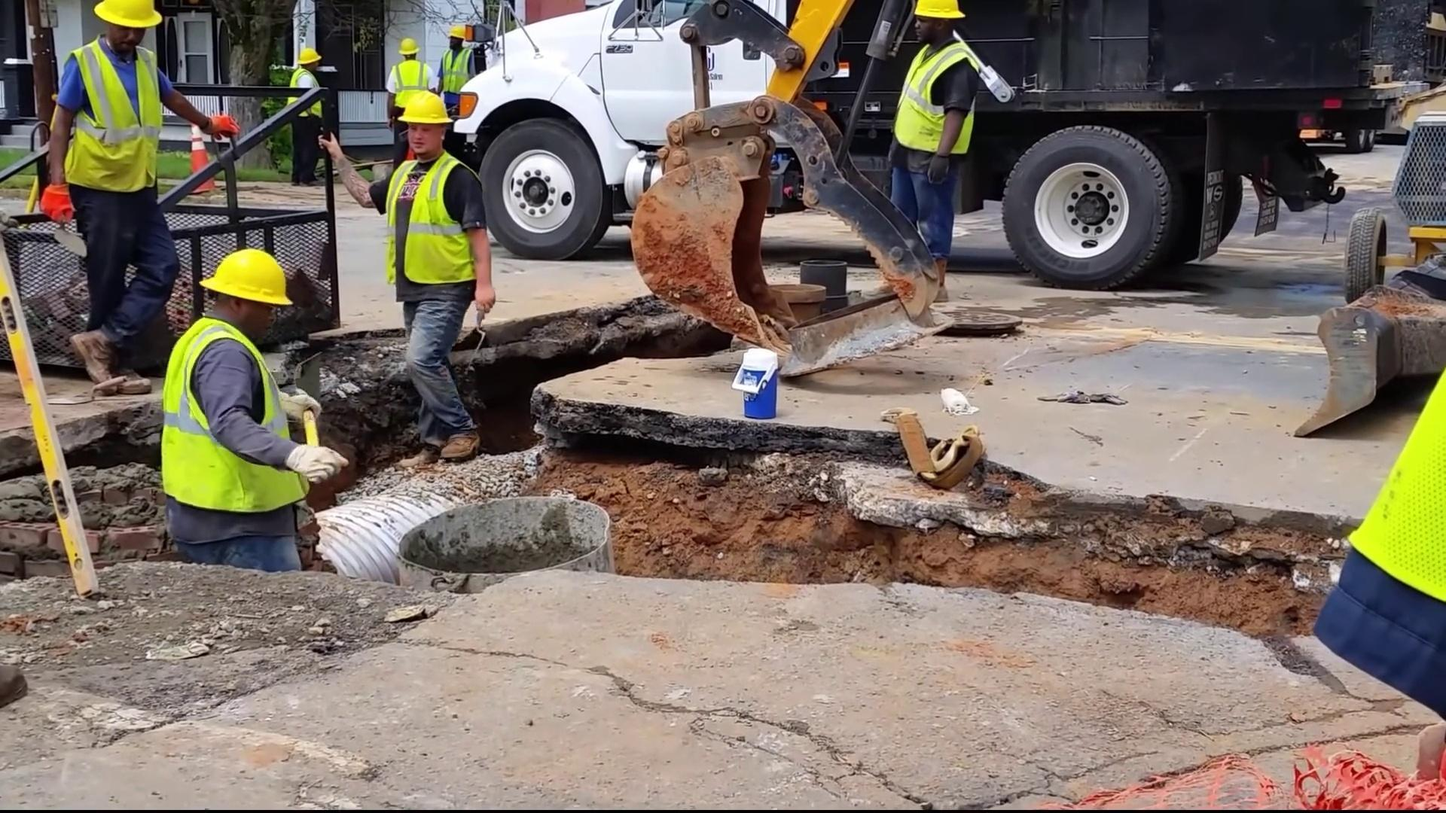apron: (287, 437, 349, 489), (278, 384, 324, 424), (40, 182, 79, 227), (204, 108, 240, 149), (923, 146, 959, 186)
